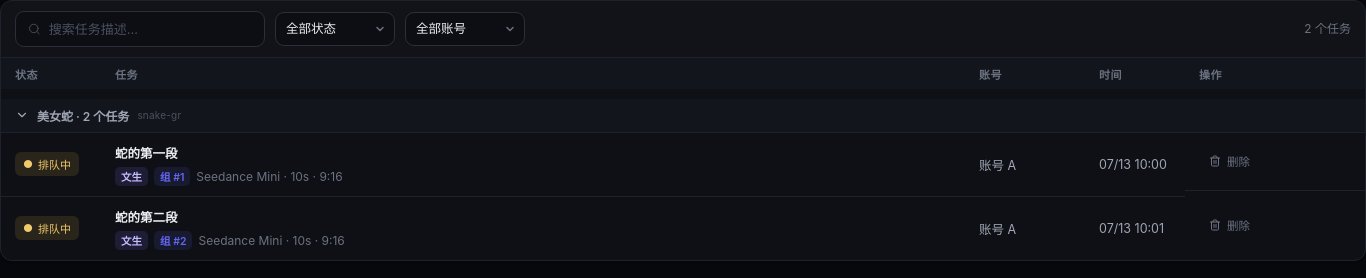
Test: uses the group name as the header and toggles only that group
This screenshot has width=1366, height=278.
Check: the row with class "group-header" shows "美女蛇 · 2 个任务", box top-left (37, 109), bottom-right (129, 124)
Check: the button "蛇的第一段" is shown, box top-left (115, 142), bottom-right (951, 162)
Click the row with class "group-header": {"x": 683, "y": 113} top-left (1, 94), bottom-right (1365, 132)
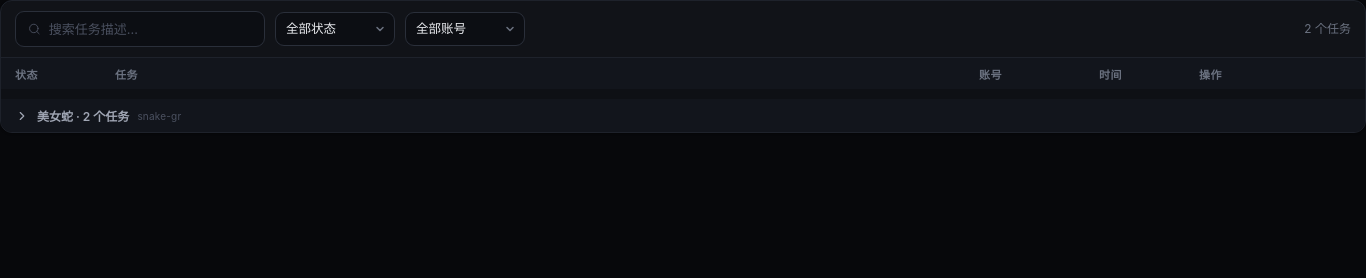
Check: the row with class "group-header" is collapsed
Check: the button "蛇的第一段" is gone
Check: the button "蛇的第二段" is gone
Click the row with class "group-header": {"x": 683, "y": 113} top-left (1, 94), bottom-right (1365, 132)
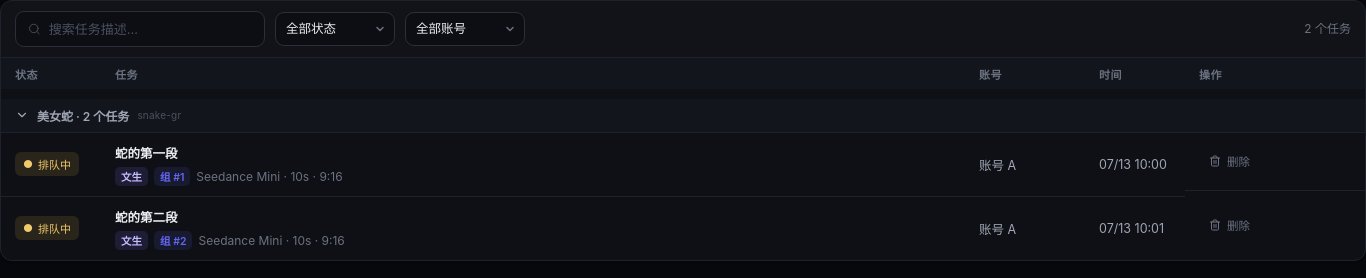
Check: the row with class "group-header" is expanded, box top-left (1, 94), bottom-right (1365, 132)
Check: the button "蛇的第一段" is shown, box top-left (115, 142), bottom-right (951, 162)
